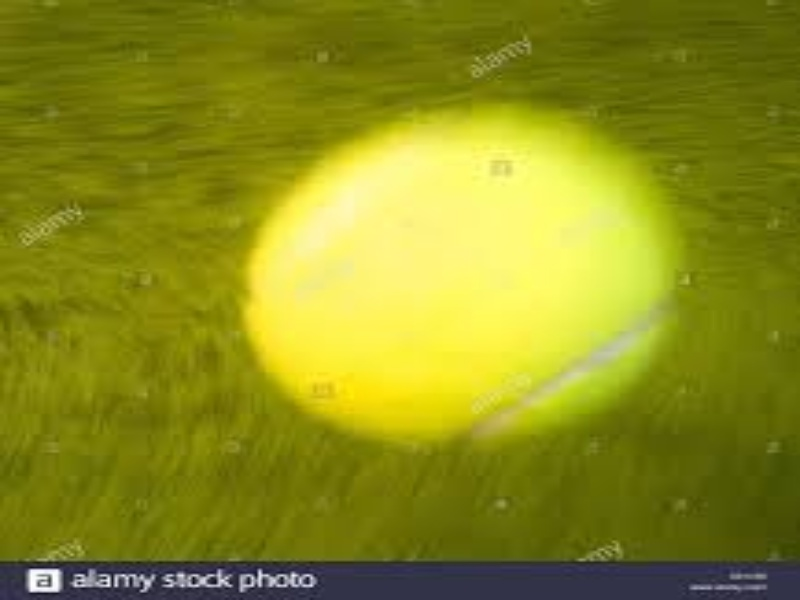tennis ball: (244, 98, 695, 493)
